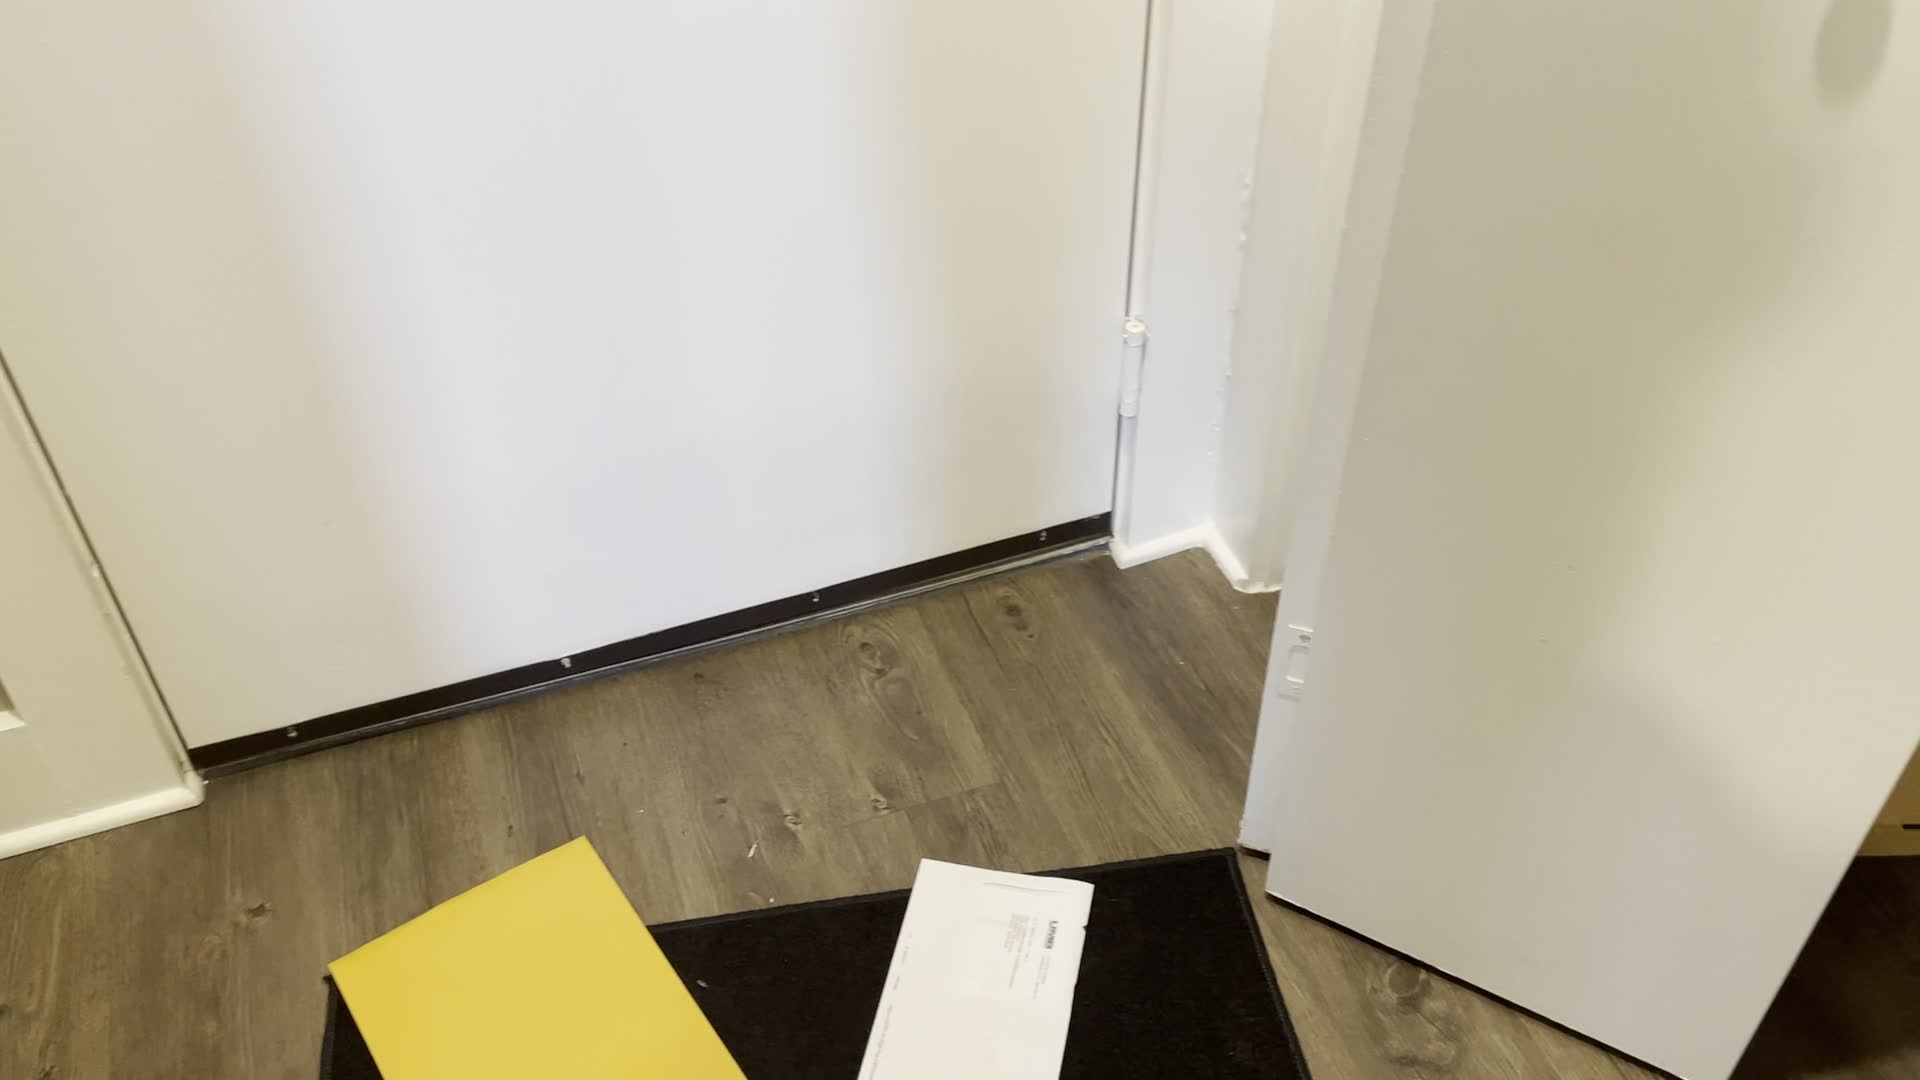envelope: (322, 822, 757, 1080)
